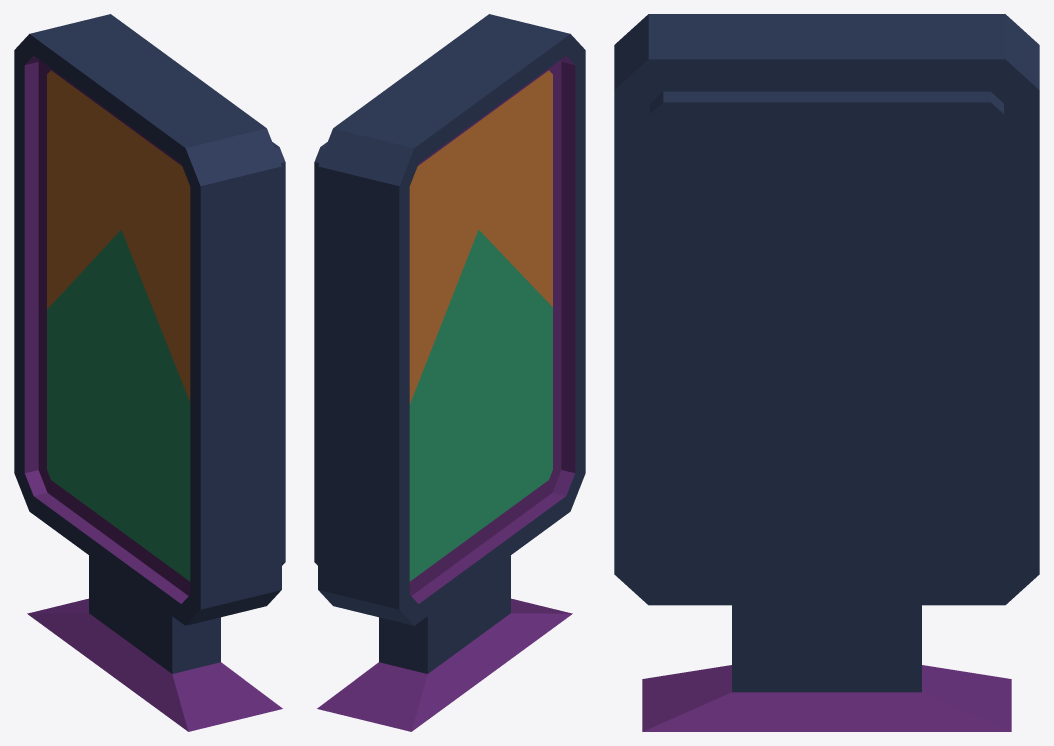
File: AdDisplay01.fbx
3 views of the same model, side by side, from view 1: azimuth 30°, elevation 25°; view 2: azimuth 150°, elevation 25°; view 3: azimuth 270°, elevation 25° (orthographic). The views are drawn at different scales.
Parts seen in each view (by area): view 1: AdDisplay01; view 2: AdDisplay01; view 3: AdDisplay01.
Part boxes in pixels (x1=…): AdDisplay01: x1=14, y1=14, x2=285, y2=731; AdDisplay01: x1=314, y1=14, x2=585, y2=731; AdDisplay01: x1=614, y1=14, x2=1039, y2=731.
Bounding box in the file's own units: 51.29 × 284 × 164.
